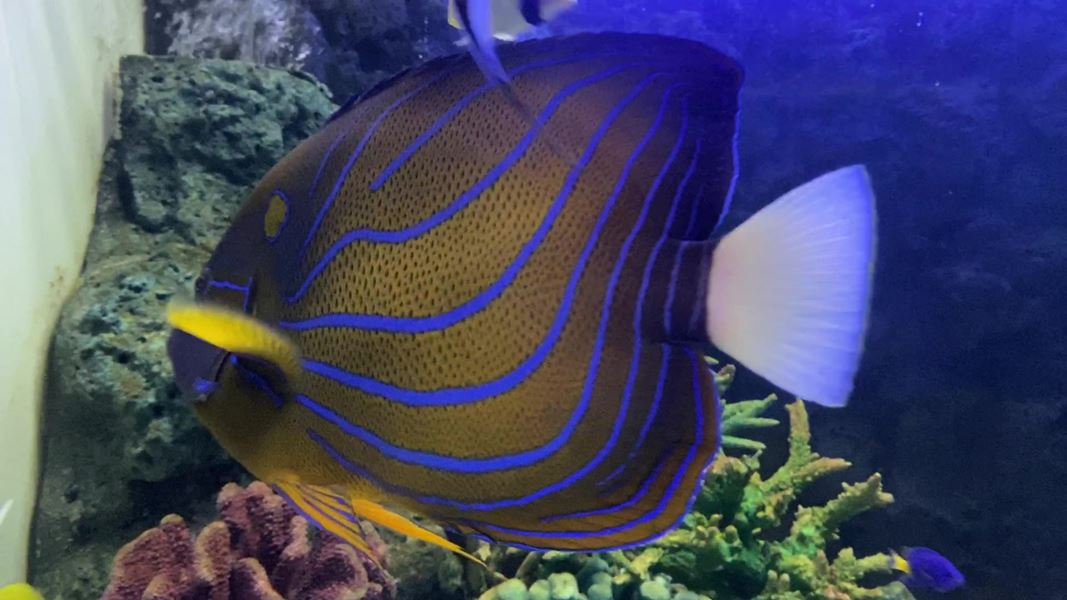Blue ring angelfish: (150, 23, 926, 600)
